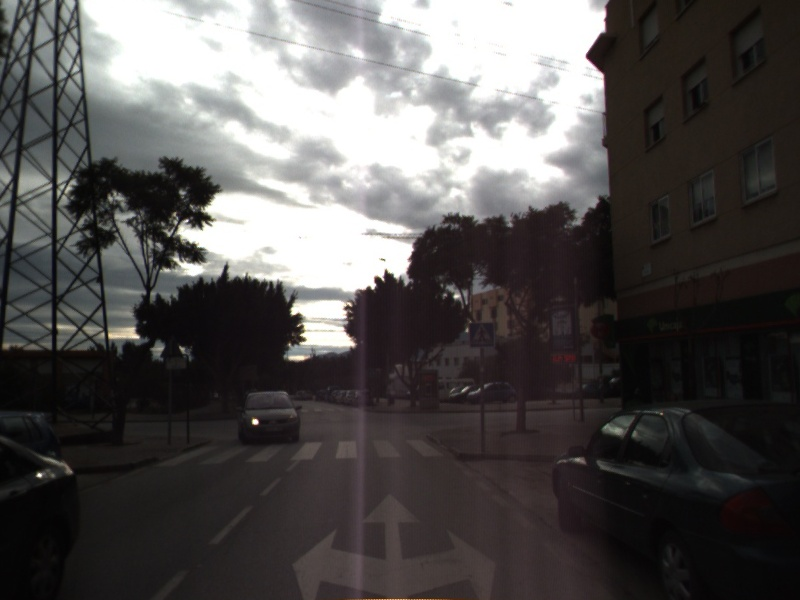STRAIGHT_LEFT_RIGHT: (289, 489, 500, 600)
